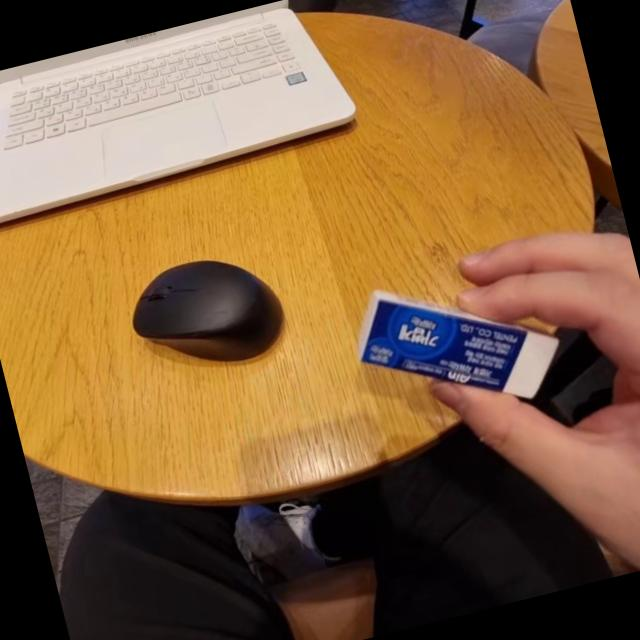eraser: (342, 244, 580, 436)
grab_eraser: (336, 178, 640, 578)
mouse: (110, 233, 304, 389)
